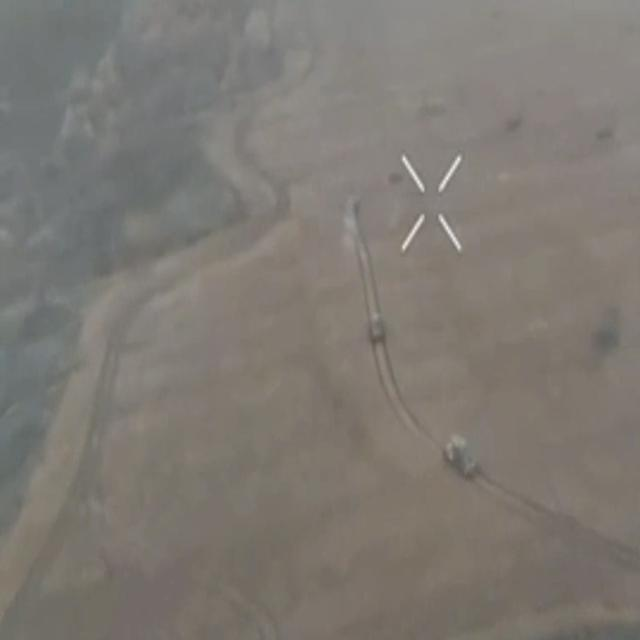vehicle: (443, 433, 478, 484), (368, 311, 386, 347), (344, 187, 361, 222)
